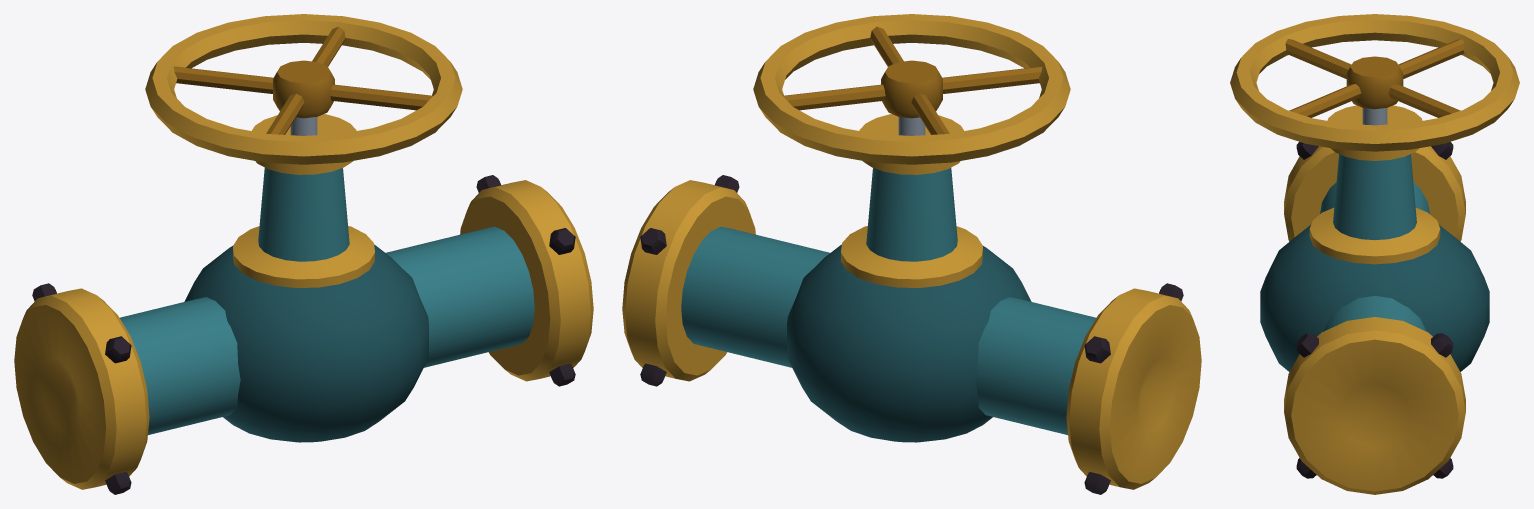
The model's file is Valve_30.glb.
The picture shows the model from 3 angles, left to right: view 1: azimuth 30°, elevation 25°; view 2: azimuth 150°, elevation 25°; view 3: azimuth 270°, elevation 25°; orthographic projection. The views are drawn at different scales.
Parts seen in each view (by area): view 1: Valve_30; view 2: Valve_30; view 3: Valve_30.
Part boxes in pixels (x1,y1,x2,y2): Valve_30: (14, 14, 593, 494); Valve_30: (622, 14, 1201, 494); Valve_30: (1230, 14, 1519, 494).
Size of the model in its own units: 2.92 by 2.05 by 1.65.
